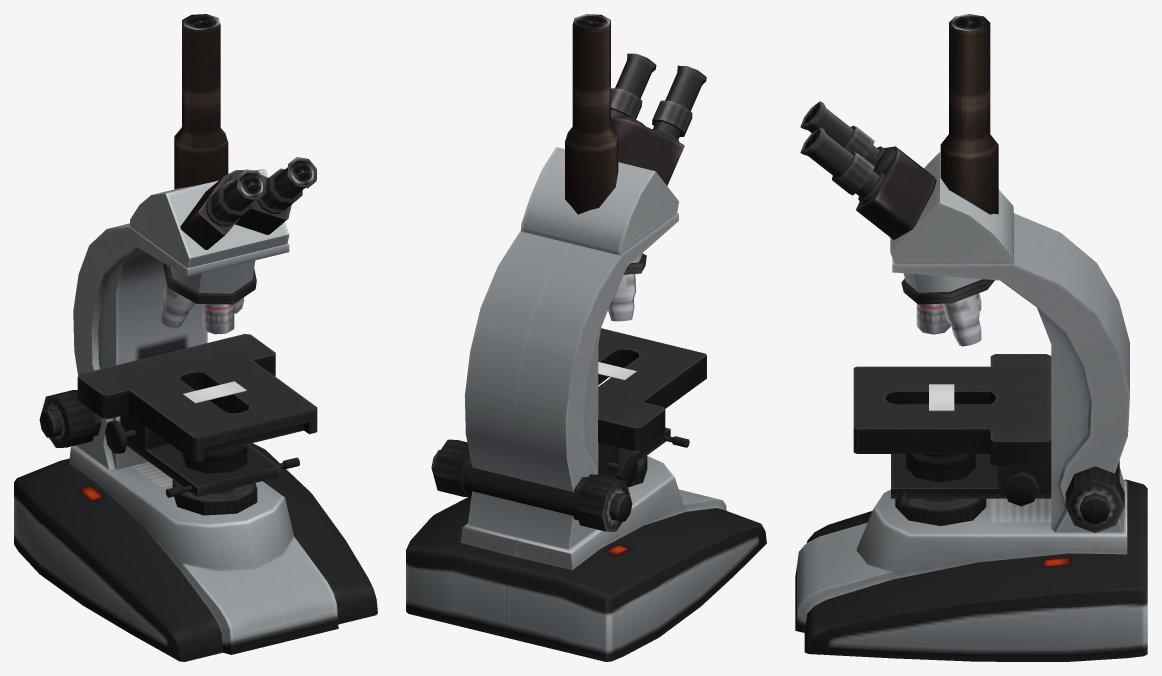
The model's file is WuZhengDiaoChaKe_01_xianweijing_01.FBX.
3 views of the same model, side by side, from view 1: azimuth 30°, elevation 25°; view 2: azimuth 150°, elevation 25°; view 3: azimuth 270°, elevation 25° (orthographic). The views are drawn at different scales.
Parts seen in each view (by area): view 1: CeSuo_xianweijing_01; view 2: CeSuo_xianweijing_01; view 3: CeSuo_xianweijing_01.
Boxes of the visible parts, x1,y1,x2,y2 form: CeSuo_xianweijing_01: [14, 14, 377, 661]; CeSuo_xianweijing_01: [406, 14, 766, 661]; CeSuo_xianweijing_01: [795, 14, 1147, 661].
Bounding box in the file's own units: 68.25 × 159 × 87.16.
